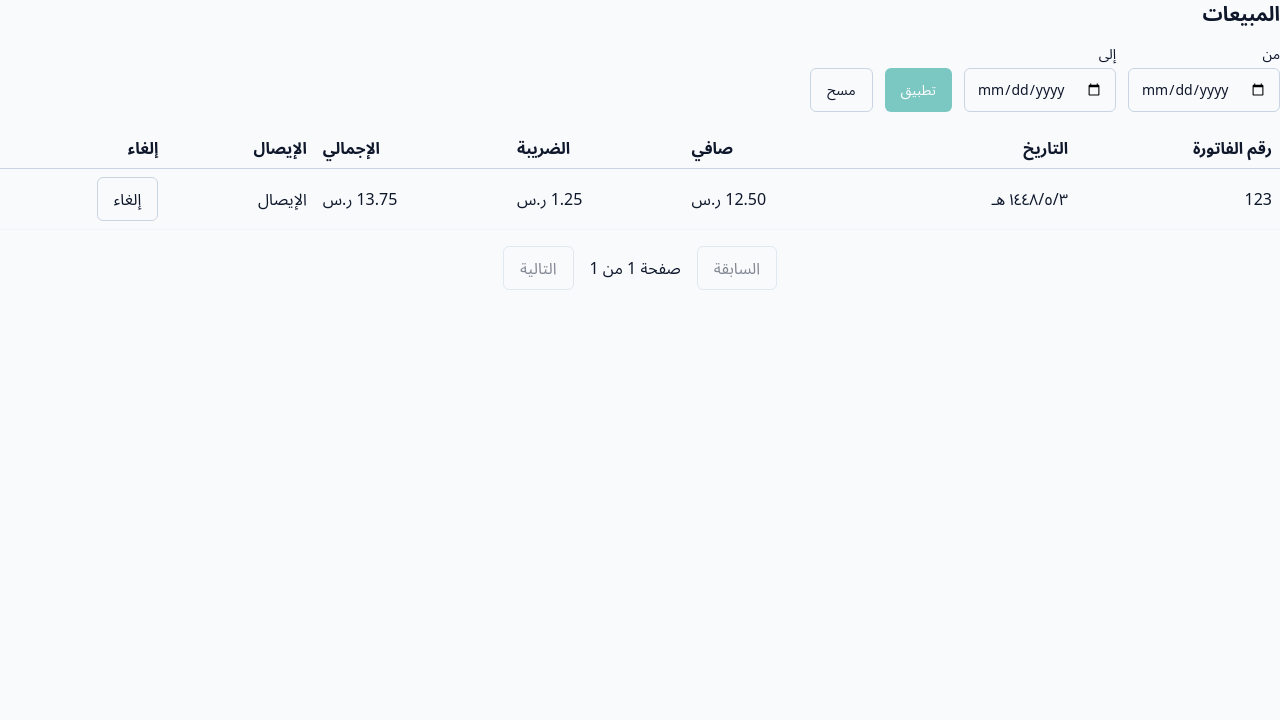
it: VoidSaleDialog › shows void.notFound on 404
This screenshot has width=1280, height=720.
Check: the column heading "رقم الفاتورة" is shown, box [1076,128,1279,168]
Click the button "إلغاء" at {"x": 128, "y": 199}, box [97,177,158,221]
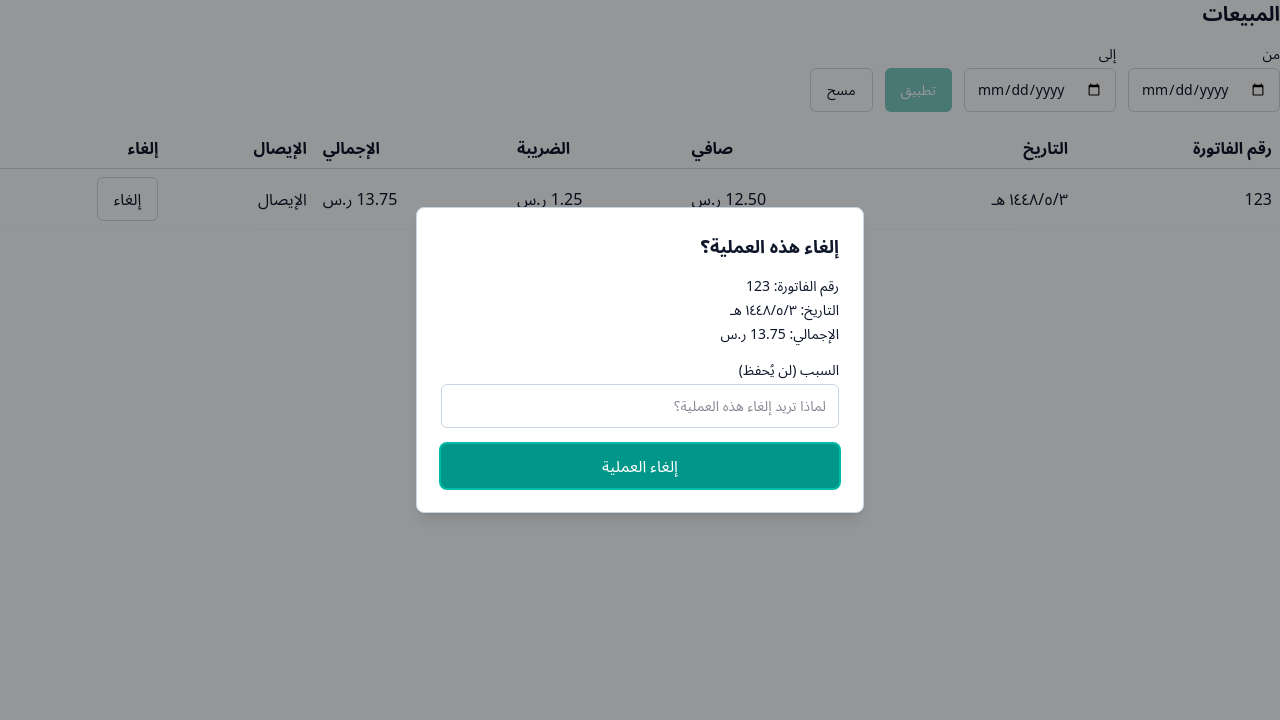
Check: the dialog is shown, box [416,207,864,513]
Click the button "إلغاء العملية" at {"x": 640, "y": 466}, box [441,444,839,488]
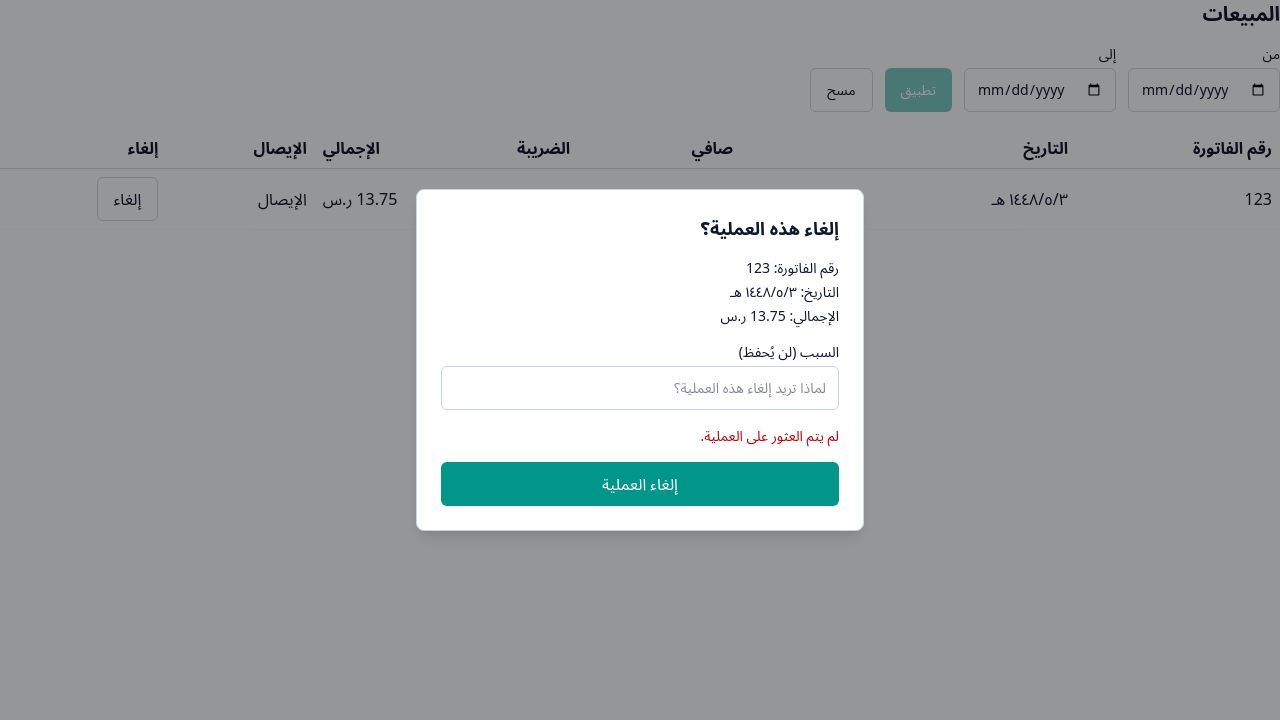
Check: the dialog is shown, box [416,189,864,531]
Check: the message reads "لم يتم العثور على العملية.", box [700,426,839,445]
